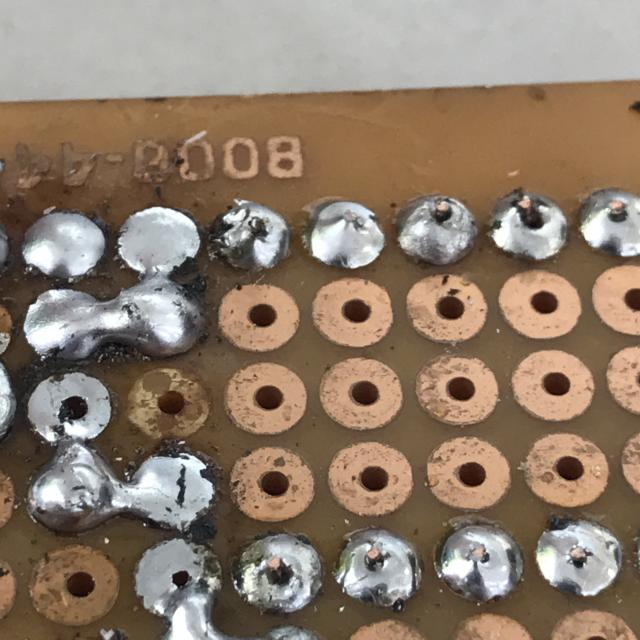bridge: (20, 447, 224, 537), (22, 279, 212, 366)
hole: (326, 516, 432, 622), (527, 506, 632, 612), (224, 523, 332, 626), (426, 511, 531, 612), (477, 176, 577, 272), (197, 192, 297, 283), (387, 182, 486, 272), (566, 176, 640, 268)
